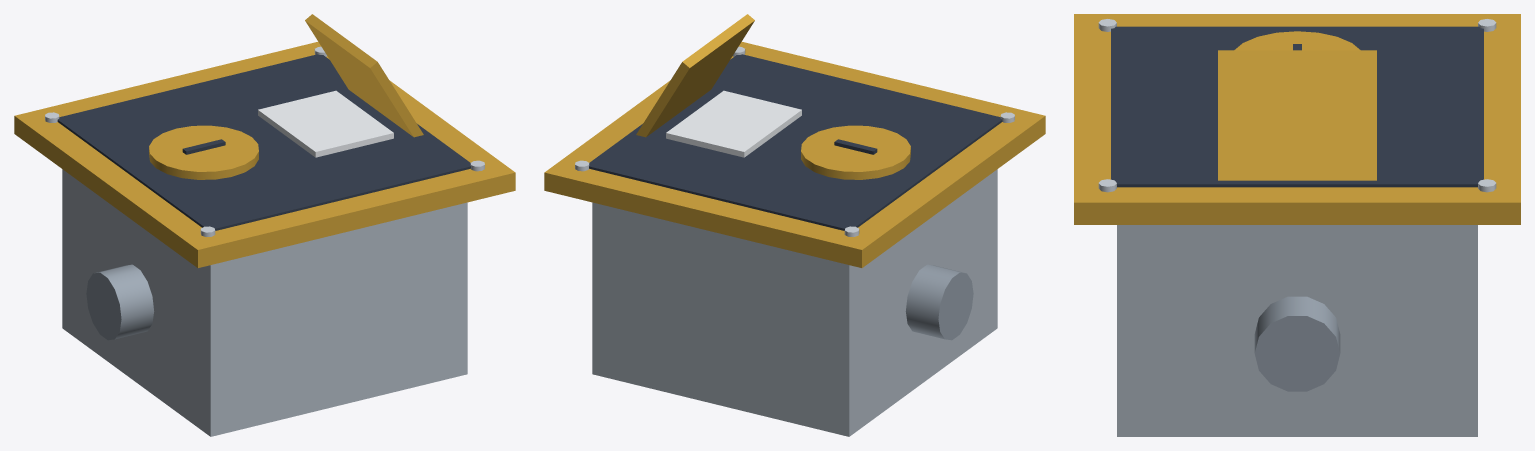
3 renders of one model, left to right at view 1: azimuth 30°, elevation 25°; view 2: azimuth 150°, elevation 25°; view 3: azimuth 270°, elevation 25°, orthographic. The views are drawn at different scales.
Visible parts, largest first — view 1: cad-device-floor-box-brass; view 2: cad-device-floor-box-brass; view 3: cad-device-floor-box-brass.
Boxes of the visible parts, x1,y1,x2,y2 form: cad-device-floor-box-brass: (14, 14, 515, 436); cad-device-floor-box-brass: (544, 14, 1045, 436); cad-device-floor-box-brass: (1074, 14, 1520, 436).
Size of the model in its own units: 0.148 by 0.1291 by 0.146.
